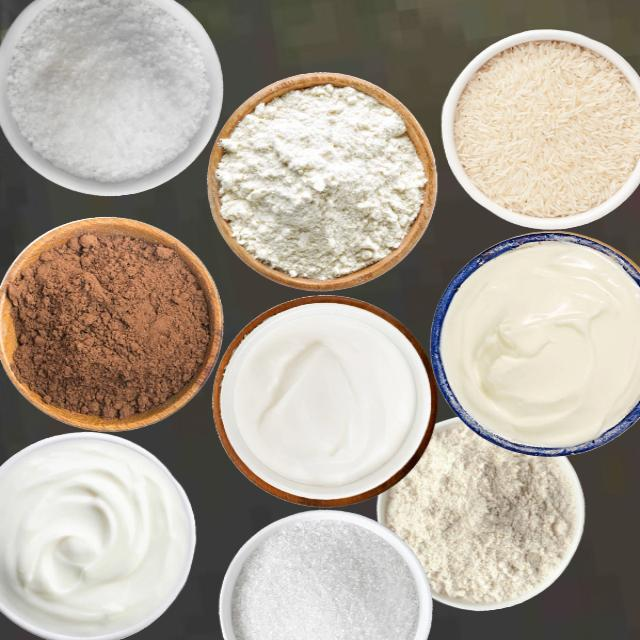Cocoa: (5, 225, 211, 421)
Flour: (214, 82, 427, 280), (381, 421, 577, 605)
Sugar: (5, 0, 210, 183), (220, 493, 428, 640)
